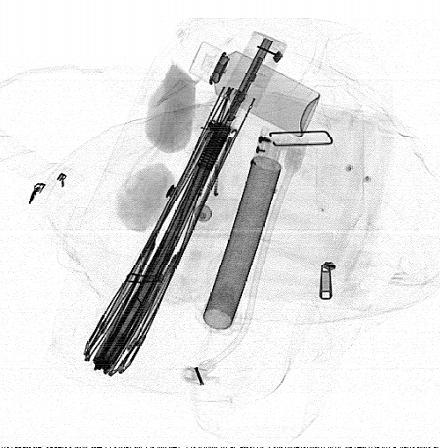Sprayer: (188, 41, 321, 137)
